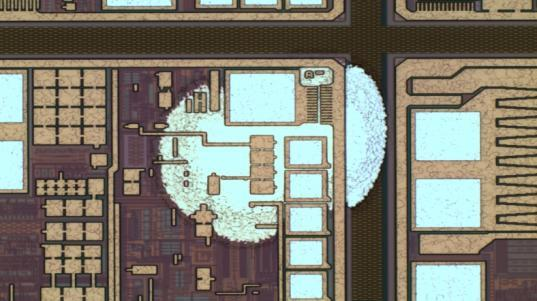BLOCK ETCH: (151, 58, 397, 246)
